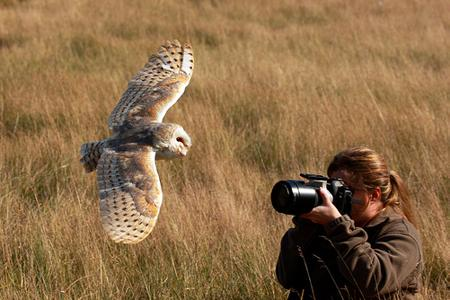person: (275, 146, 423, 299)
